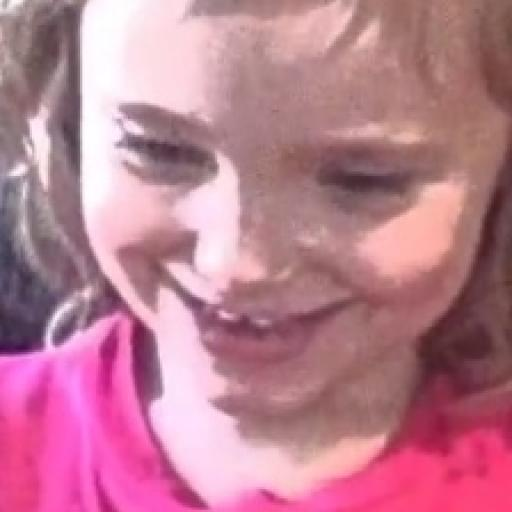Autism: (27, 2, 512, 436)
